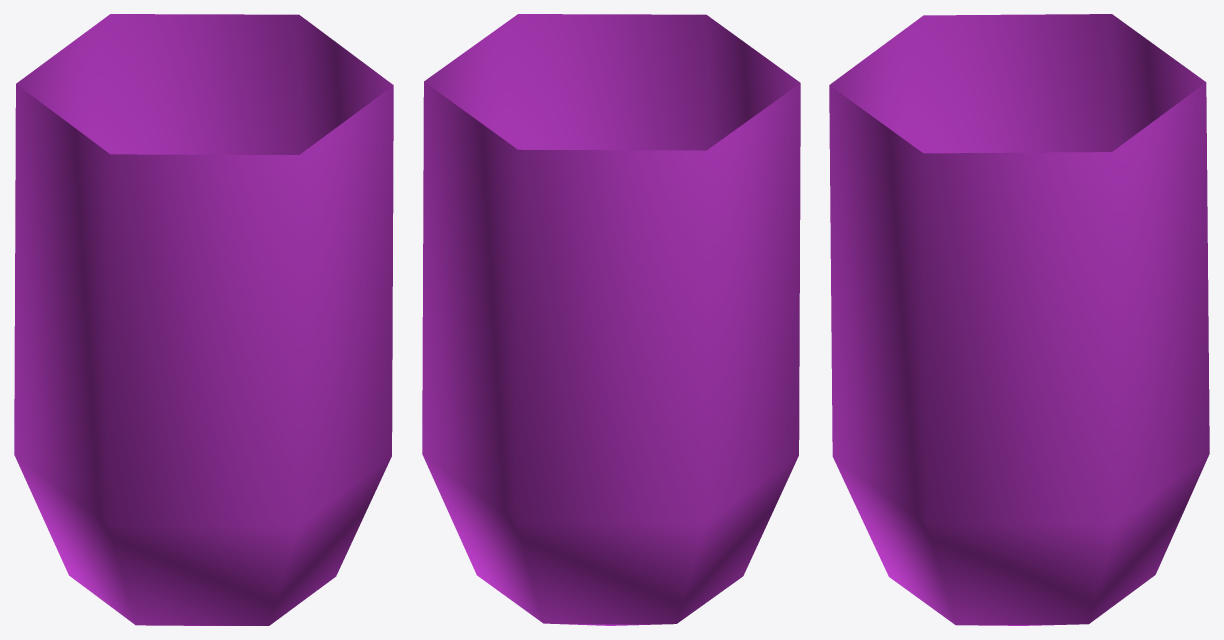
File: neck.gltf
3 views of the same model, side by side, from view 1: azimuth 30°, elevation 25°; view 2: azimuth 150°, elevation 25°; view 3: azimuth 270°, elevation 25° (orthographic).
Visible parts, largest first — view 1: NECK; view 2: NECK; view 3: NECK.
Boxes of the visible parts, x1=… form: NECK: x1=14, y1=14, x2=393, y2=625; NECK: x1=422, y1=14, x2=800, y2=625; NECK: x1=829, y1=14, x2=1209, y2=625.
Size of the model in its own units: 0.0964 by 0.1771 by 0.1123.
